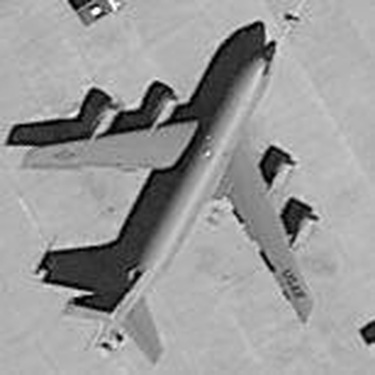airplane: (17, 17, 340, 368)
